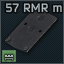FN Five-seveN MK2 RMR mount: (0, 0, 64, 64)
